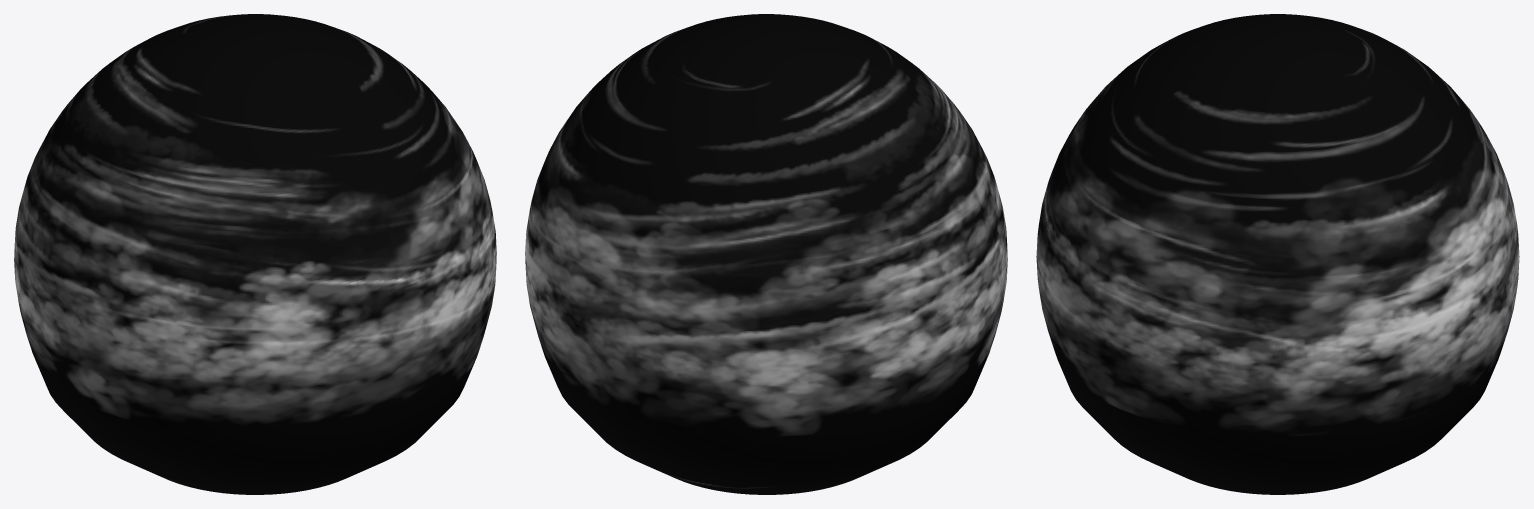
Rendered from P_Sky.obj.
3 views of the same model, side by side, from view 1: azimuth 30°, elevation 25°; view 2: azimuth 150°, elevation 25°; view 3: azimuth 270°, elevation 25° (orthographic).
Bounding box in the file's own units: 39489 × 38810 × 39489.
